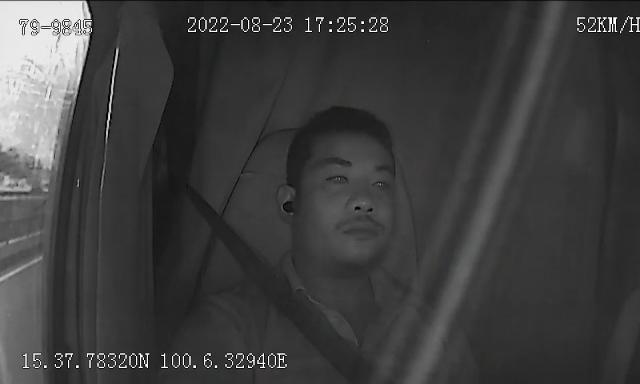SafeDriving: (318, 162, 354, 194), (365, 166, 398, 196)
Seatbelt: (176, 162, 382, 384)
